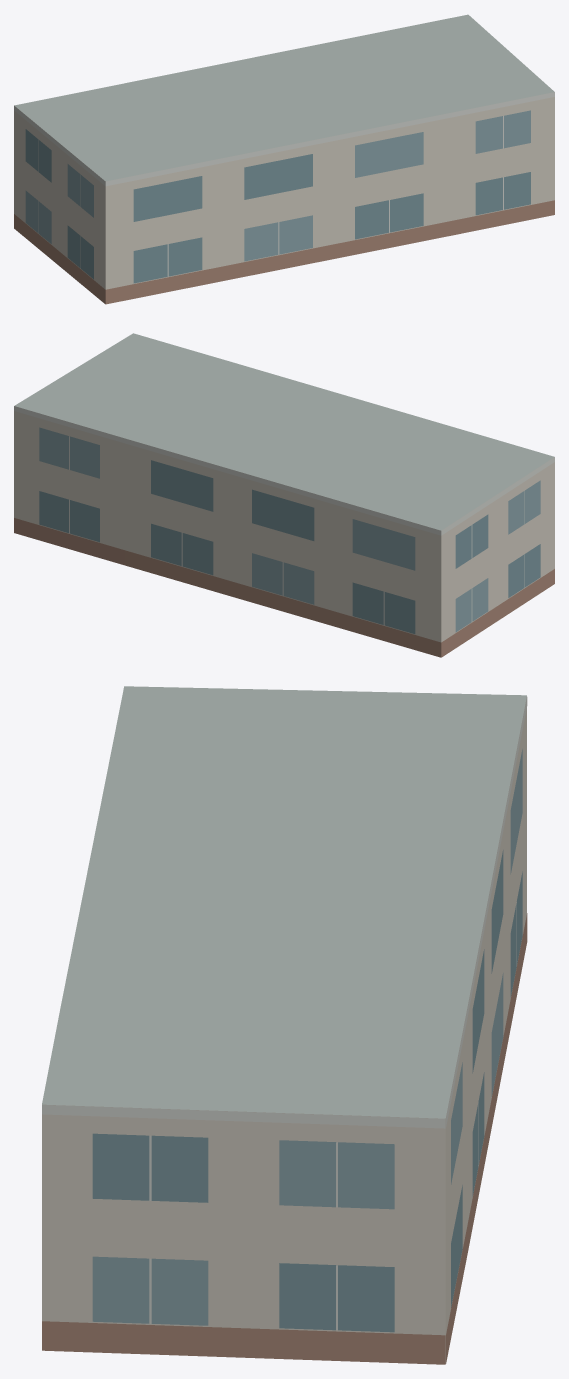
The model's file is survey-upis-32768822.glb.
3 views of the same model, one above another, from view 1: azimuth 30°, elevation 25°; view 2: azimuth 150°, elevation 25°; view 3: azimuth 270°, elevation 25° (orthographic). The views are drawn at different scales.
Parts seen in each view (by area): view 1: survey-upis-32768822.tmp; view 2: survey-upis-32768822.tmp; view 3: survey-upis-32768822.tmp.
Part boxes in pixels (x1,y1,x2,y2): survey-upis-32768822.tmp: [14, 14, 554, 304]; survey-upis-32768822.tmp: [14, 333, 554, 657]; survey-upis-32768822.tmp: [42, 686, 527, 1364].
Bounding box in the file's own units: 23.02 × 6.1 × 10.92.
